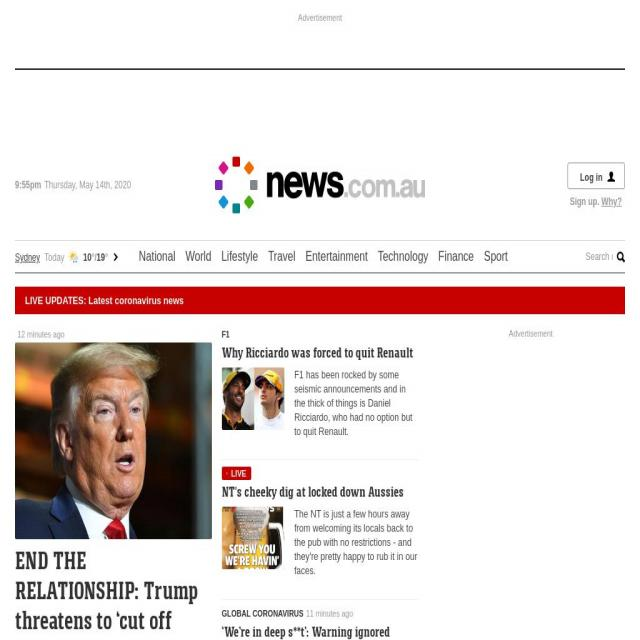button: (15, 342, 212, 640), (199, 136, 445, 228), (221, 506, 423, 586), (221, 367, 421, 447), (567, 162, 625, 189), (613, 241, 625, 272)
field: (585, 240, 640, 272)
